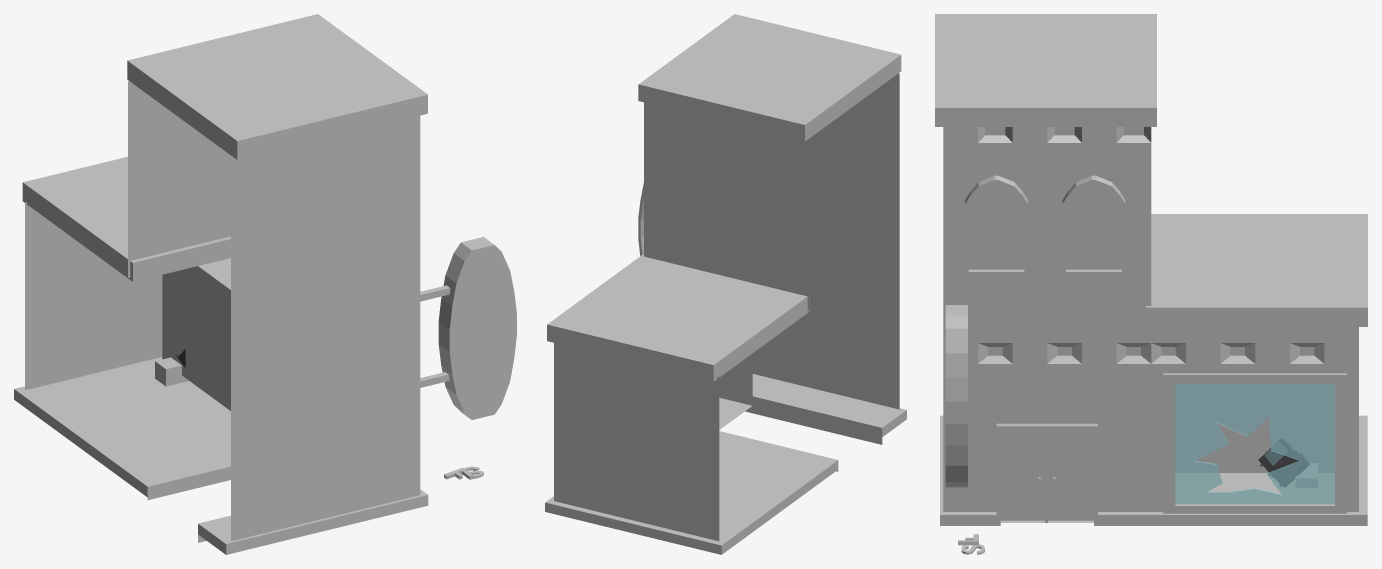
Rendered from Predio4Tutorial.fbx.
3 renders of one model, left to right at view 1: azimuth 30°, elevation 25°; view 2: azimuth 150°, elevation 25°; view 3: azimuth 270°, elevation 25°, orthographic. The views are drawn at different scales.
Parts seen in each view (by area): view 1: Predio4; view 2: Predio4; view 3: Predio4.
Boxes of the visible parts, box(x1,y1,x2,y2) form: Predio4: box(14, 14, 516, 554); Predio4: box(545, 14, 906, 554); Predio4: box(935, 14, 1367, 554).
Bounding box in the file's own units: 905 × 1243 × 1146.
